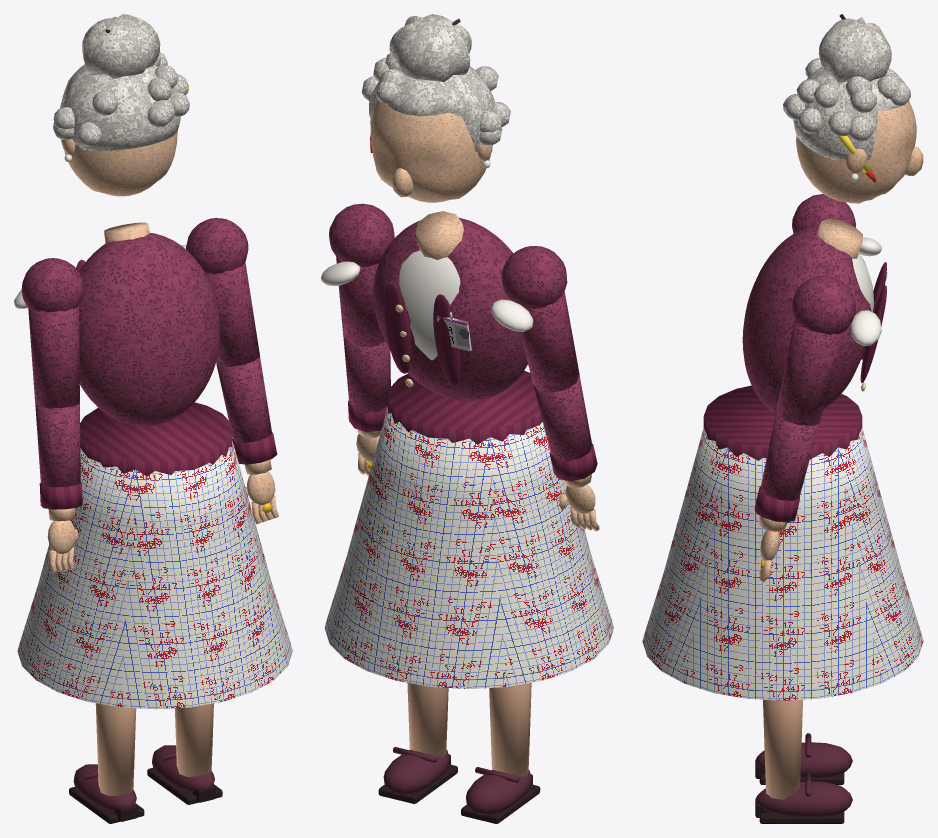
File: c_auntie.glb
3 views of the same model, side by side, from view 1: azimuth 30°, elevation 25°; view 2: azimuth 150°, elevation 25°; view 3: azimuth 270°, elevation 25° (orthographic). The views are drawn at different scales.
Parts seen in each view (by area): view 1: part_body, part_spine, part_head, part_armL, part_arm, part_kneeL, part_kneeR, part_foreL, part_foreR, part_handL, part_handR; view 2: part_body, part_spine, part_head, part_armL, part_kneeL, part_arm, part_kneeR, part_foreL, part_foreR, part_handL, part_handR; view 3: part_body, part_head, part_spine, part_arm, part_kneeR, part_foreR, part_kneeL, part_armL, part_handR.
Part boxes in pixels (x1,y1,x2,y2): part_body: [17, 402, 292, 709]; part_spine: [14, 222, 220, 426]; part_head: [53, 14, 189, 196]; part_armL: [21, 258, 84, 408]; part_arm: [186, 218, 259, 366]; part_kneeL: [69, 703, 144, 823]; part_kneeR: [147, 703, 222, 804]; part_foreL: [35, 403, 82, 521]; part_foreR: [216, 357, 277, 474]; part_handL: [47, 520, 77, 572]; part_handR: [245, 471, 278, 524]; part_body: [324, 370, 613, 688]; part_spine: [321, 211, 533, 400]; part_head: [361, 14, 510, 202]; part_armL: [501, 246, 579, 392]; part_kneeL: [461, 682, 540, 823]; part_arm: [329, 203, 394, 347]; part_kneeR: [378, 683, 457, 803]; part_foreL: [533, 375, 597, 487]; part_foreR: [343, 336, 390, 438]; part_handL: [559, 484, 599, 531]; part_handR: [356, 434, 379, 475]; part_body: [642, 385, 923, 700]; part_head: [783, 14, 923, 203]; part_spine: [742, 218, 887, 412]; part_arm: [776, 276, 855, 425]; part_kneeR: [755, 699, 852, 823]; part_foreR: [754, 411, 818, 531]; part_kneeL: [755, 733, 852, 784]; part_armL: [792, 194, 855, 233]; part_handR: [759, 529, 779, 582].
Bounding box in the file's own units: 0.61 × 1.85 × 0.61.
Materials: 17 (6 with a texture image).
